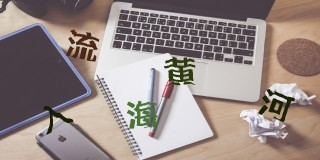河: (260, 89, 295, 122)
流: (65, 27, 99, 63)
海: (127, 100, 158, 129)
黄: (163, 57, 197, 86)
